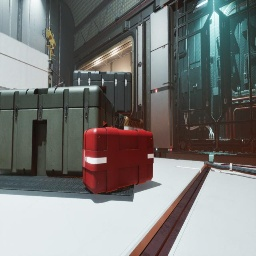FirstAidBox ,: (82, 127, 154, 194)
